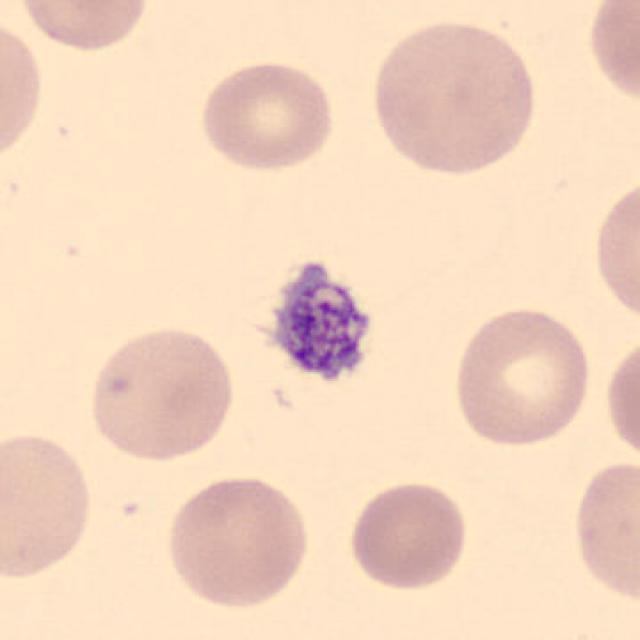Platelets: (252, 254, 382, 400)
RBC: (366, 14, 542, 180), (84, 321, 240, 464), (160, 469, 313, 612), (448, 302, 596, 449), (193, 55, 339, 176), (0, 426, 98, 584), (343, 476, 473, 592), (567, 456, 640, 606), (14, 0, 153, 55), (590, 171, 638, 328), (0, 14, 48, 166), (581, 0, 640, 111), (601, 330, 638, 470)
